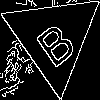B: (28, 12, 79, 69)
